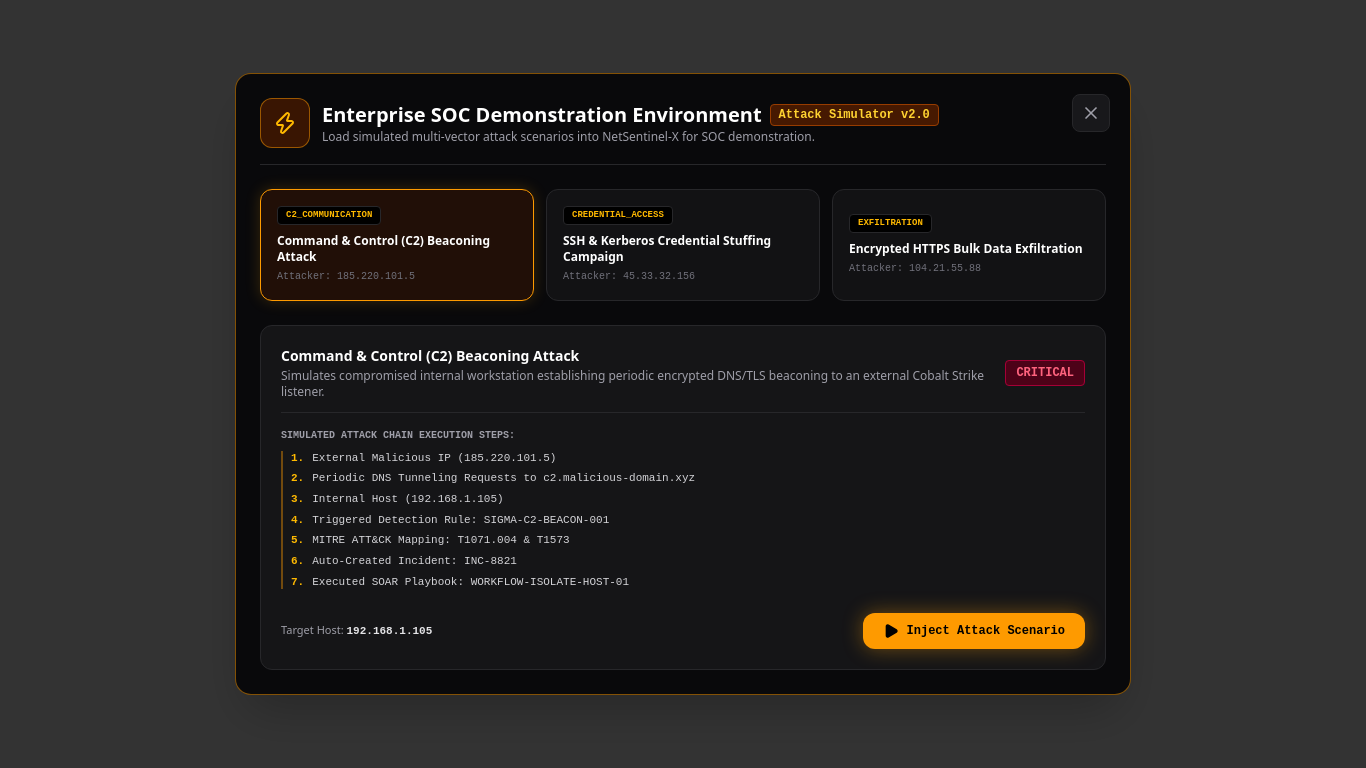
Test: DemoScenariosModal Component › launches attack scenario when inject button clicked
Expected: the heading "Enterprise SOC Demonstration Environment" is shown, [322,101,762,128]
Click the button "Inject Attack Scenario" at (974, 631), box [863,613,1085,649]
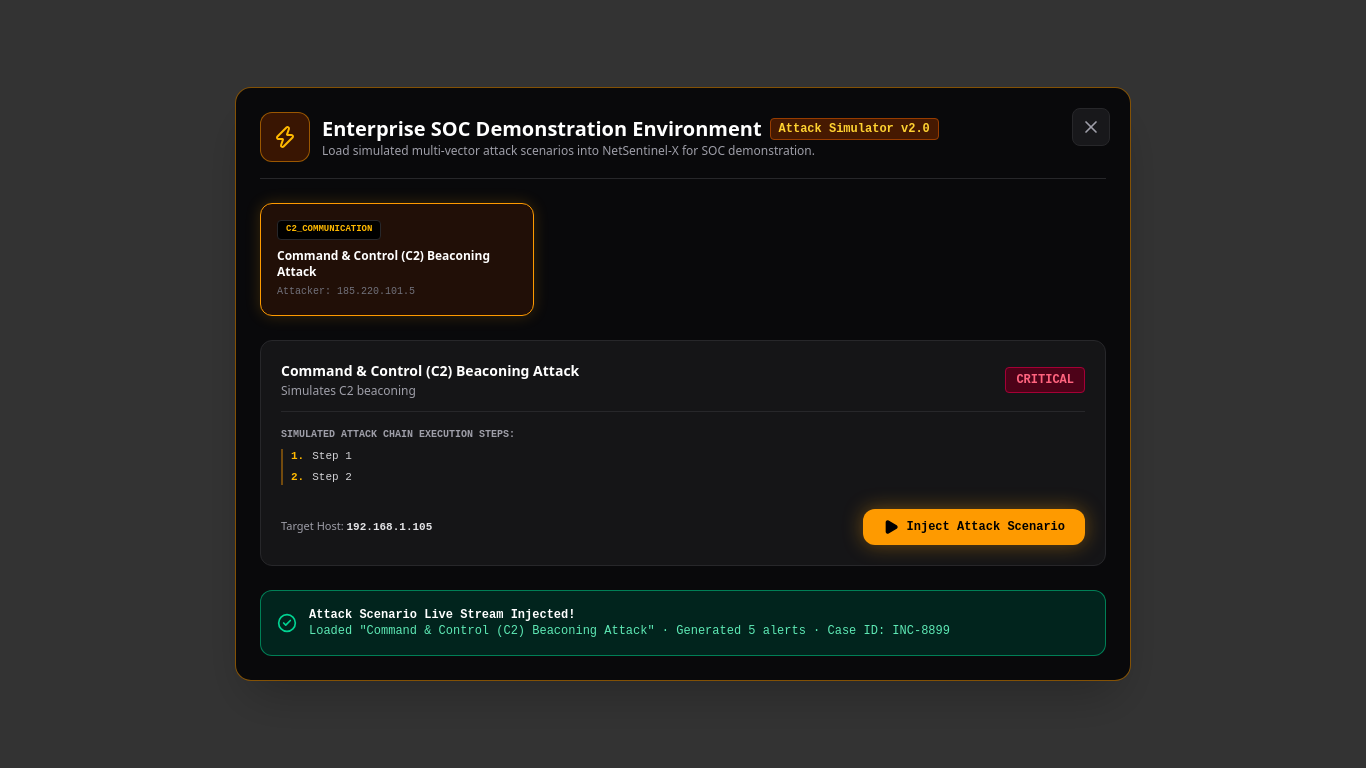
Expected: the text "Attack Scenario Live Stream Injected!" is shown, [309,608,576,622]
